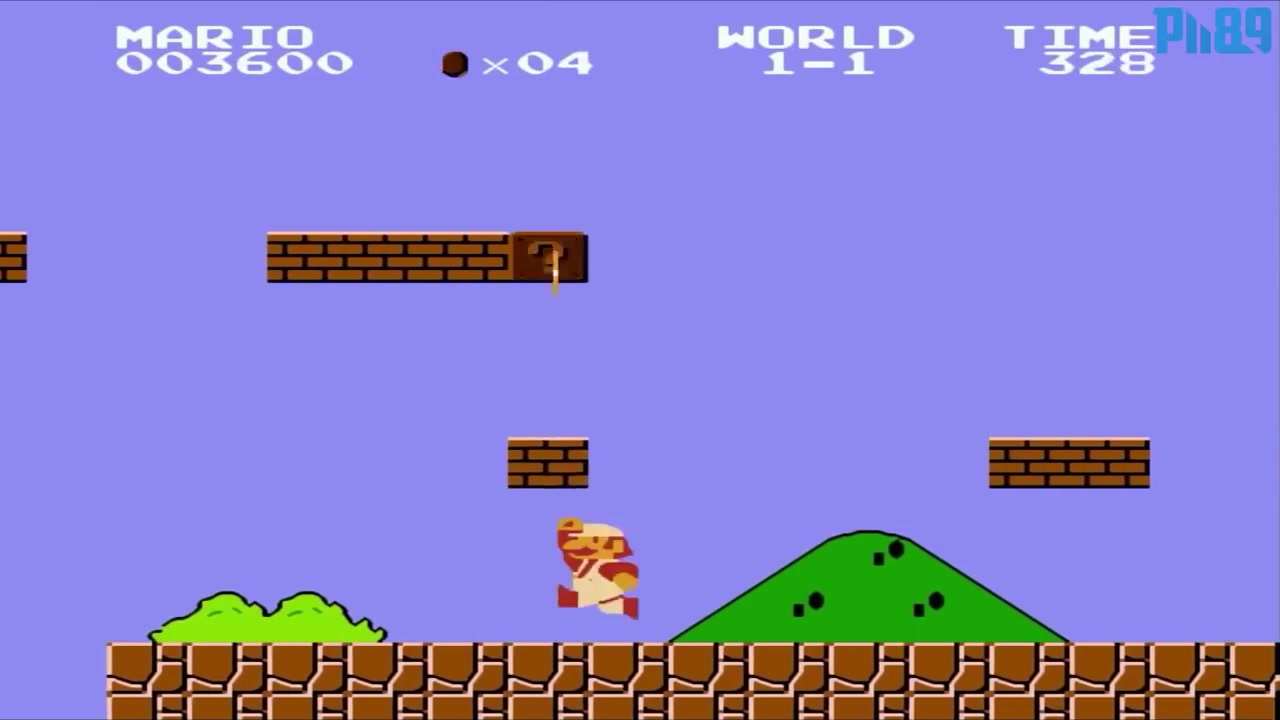mario: (548, 508, 639, 618)
